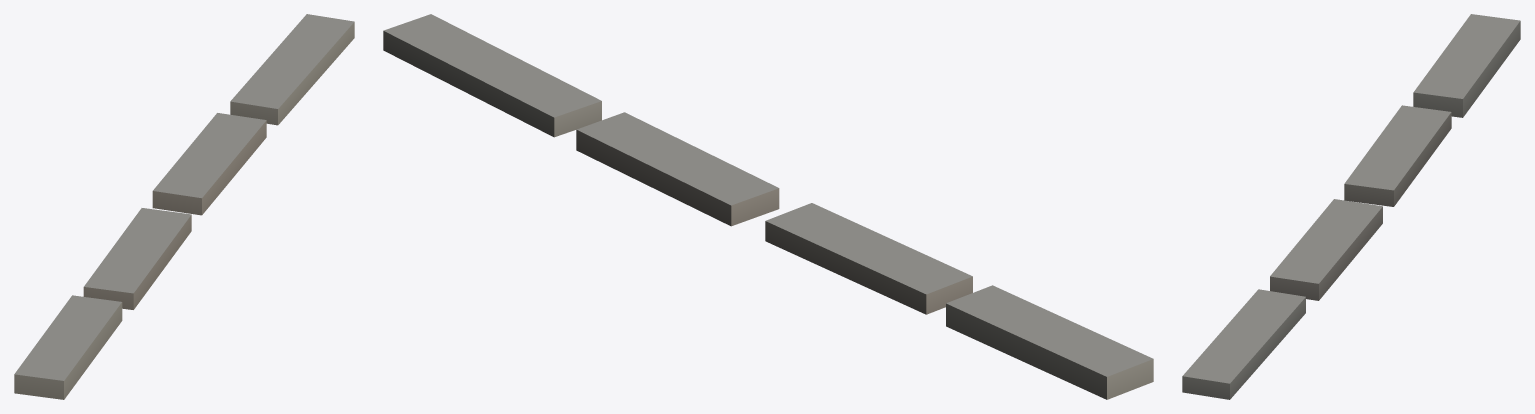
File: bld_19_0.fbx
3 views of the same model, side by side, from view 1: azimuth 90°, elevation 25°; view 2: azimuth 150°, elevation 25°; view 3: azimuth 270°, elevation 25° (orthographic). The views are drawn at different scales.
Parts seen in each view (by area): view 1: bld_19_0_LOD0; view 2: bld_19_0_LOD0; view 3: bld_19_0_LOD0.
Boxes of the visible parts, x1,y1,x2,y2 form: bld_19_0_LOD0: (14,14,354,399); bld_19_0_LOD0: (383,14,1153,399); bld_19_0_LOD0: (1182,14,1520,399).
Bounding box in the file's own units: 386 × 9.24 × 150.
